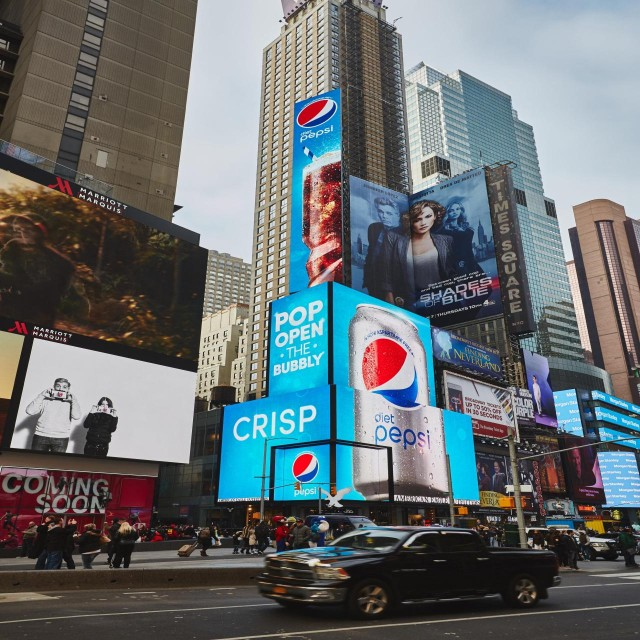pepsi: (362, 338, 429, 412), (293, 96, 342, 132), (290, 456, 324, 482)
